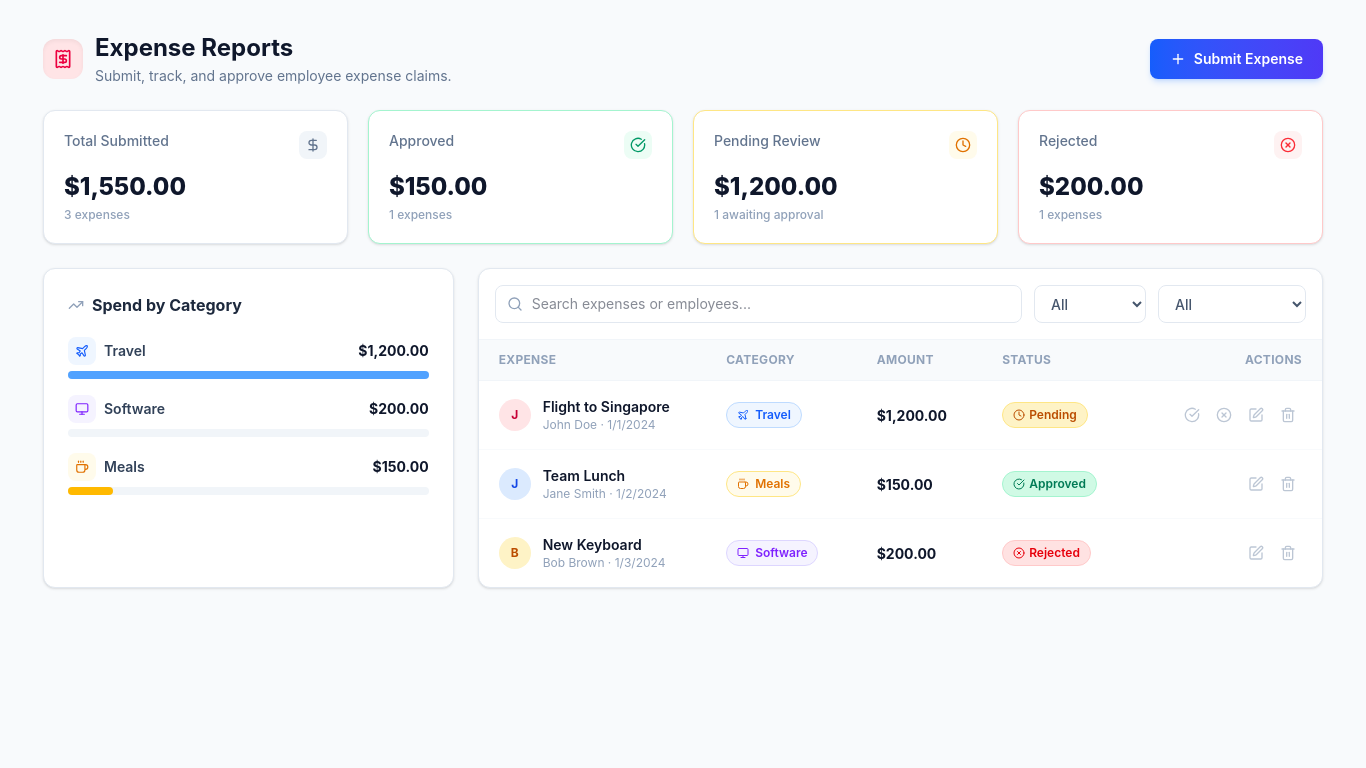
Scenario: Expenses Page › filters expenses by category dropdown
Expected: the text "Flight to Singapore" is shown, [543,397,670,417]
Note: The category filter is the second select
Select "Travel" in the 2nd dropdown: (1232, 304) [1158,285,1306,323]
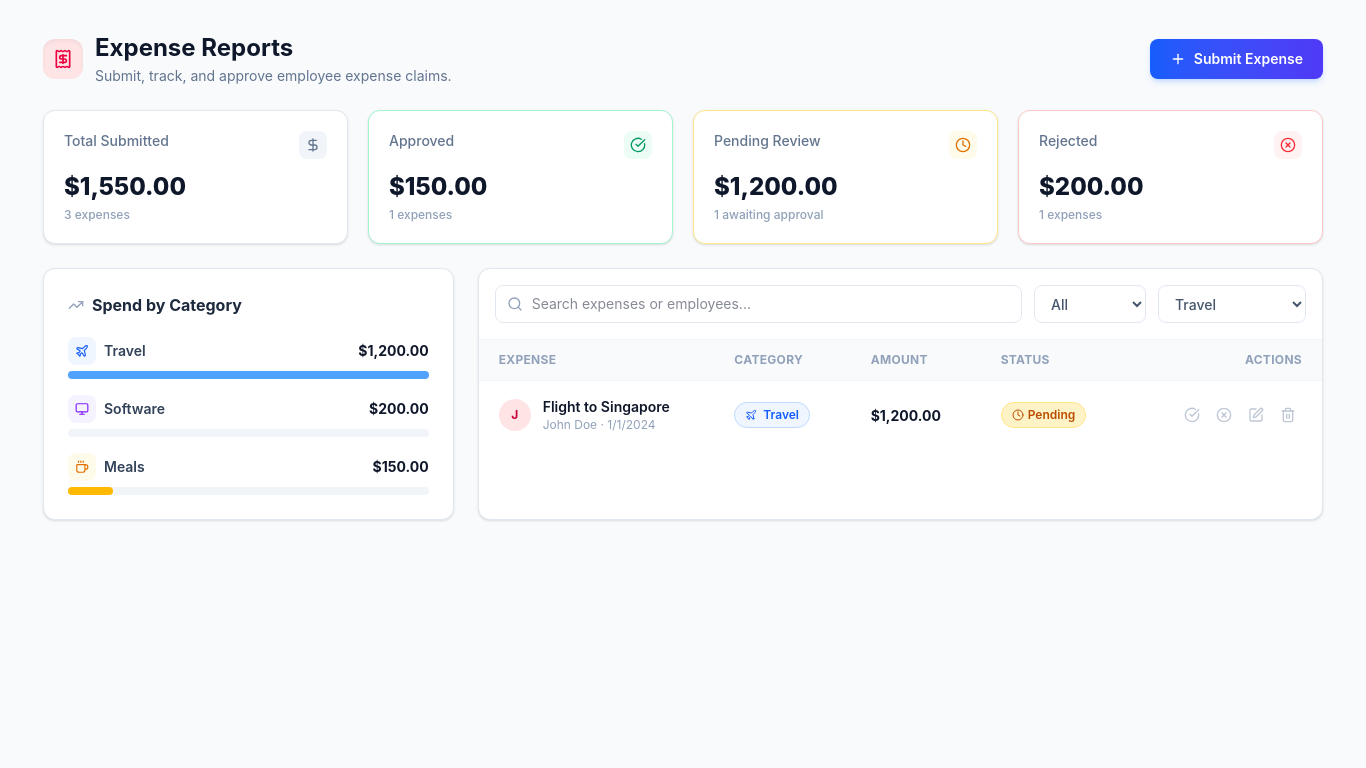
Expected: the text "Flight to Singapore" is shown, [543,397,670,417]
Now the text "Team Lunch" is gone
